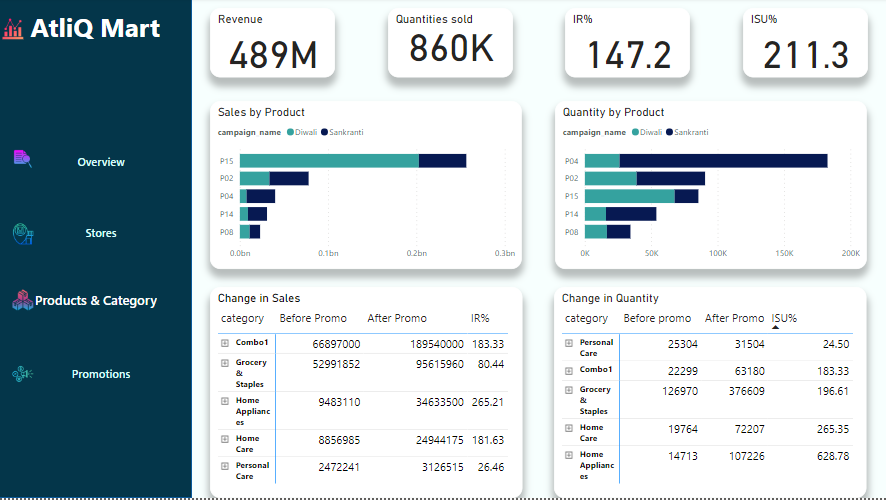

The page's visual inventory and layout, read from the dashboard file:
{"tool":"powerbi","page":{"name":"Products & Category","canvas":[1280,720],"ordinal":2},"visuals":[{"type":"shape","box":[0,0,277.9,720],"z":0},{"type":"pageNavigator","box":[14.4,188.6,250.6,401.8],"z":1000},{"type":"card","title":"Revenue","fields":{"Values":["fact_events.Tot_sales"]},"box":[304,15.1,180,100],"z":2000},{"type":"card","title":"Quantities sold","fields":{"Values":["dim_campaigns.tot_quantity"]},"box":[559.6,15.1,180,100],"z":3000},{"type":"barChart","title":"Sales by Product","fields":{"Category":["dim_products (2).product_code"],"Y":["fact_events.Tot_sales"],"Series":["dim_campaigns.campaign_name"]},"box":[304,147.8,448.5,241.9],"z":4000},{"type":"barChart","title":"Quantity by Product","fields":{"Category":["dim_products (2).product_code"],"Series":["dim_campaigns.campaign_name"],"Y":["dim_campaigns.tot_quantity"]},"box":[801.3,147.8,448.5,241.9],"z":5000},{"type":"pivotTable","title":"Change in Quantity","fields":{"Rows":["dim_products (2).category","dim_products (2).product_name"],"Values":["Sum(fact_events.quantity_sold(before_promo))","Sum(fact_events.quantity_sold (after promo))","dim_campaigns.ISU%"]},"box":[799.6,416.6,450.2,304],"z":6000},{"type":"pivotTable","title":"Change in Sales","fields":{"Rows":["dim_products (2).category","dim_products (2).product_name"],"Values":["Sum(fact_events.existing revenue(before promo))","Sum(fact_events.revenue after promo)","dim_campaigns.IR%"]},"box":[304,416.6,450.2,304],"z":7000},{"type":"image","box":[14.4,521.3,40.3,40.3],"z":9000},{"type":"image","box":[14.4,414.7,40.3,40.3],"z":10000},{"type":"image","box":[14.4,319.7,40.3,40.3],"z":11000},{"type":"image","box":[14.4,211.7,40.3,40.3],"z":12000},{"type":"card","title":"IR%","fields":{"Values":["dim_campaigns.IR%"]},"box":[815.1,15.1,180,100],"z":13000},{"type":"card","title":"ISU%","fields":{"Values":["dim_campaigns.ISU%"]},"box":[1070.7,15.1,180,100],"z":14000},{"type":"textbox","box":[0,11.8,277.2,84],"z":14001},{"type":"image","box":[34.6,24.5,40.3,40.3],"z":14002}]}

Visuals, with their boxes on the page's 1280x720 design canvas (x1, y1, x2, y2). These are canvas units, not pixel positions in the 886x500 screenshot, which may show the page scaled, cropped or inside an application window:
shape: 0 0 278 720
pageNavigator: 14 189 265 590
"Revenue" card: 304 15 484 115
"Quantities sold" card: 560 15 740 115
"Sales by Product" barChart: 304 148 752 390
"Quantity by Product" barChart: 801 148 1250 390
"Change in Quantity" pivotTable: 800 417 1250 721
"Change in Sales" pivotTable: 304 417 754 721
image: 14 521 55 562
image: 14 415 55 455
image: 14 320 55 360
image: 14 212 55 252
"IR%" card: 815 15 995 115
"ISU%" card: 1071 15 1251 115
textbox: 0 12 277 96
image: 35 24 75 65
